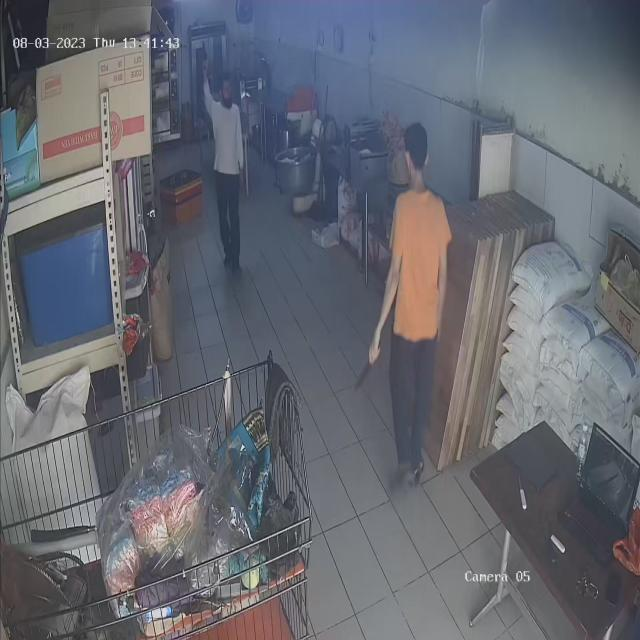Knife: (345, 342, 385, 392)
